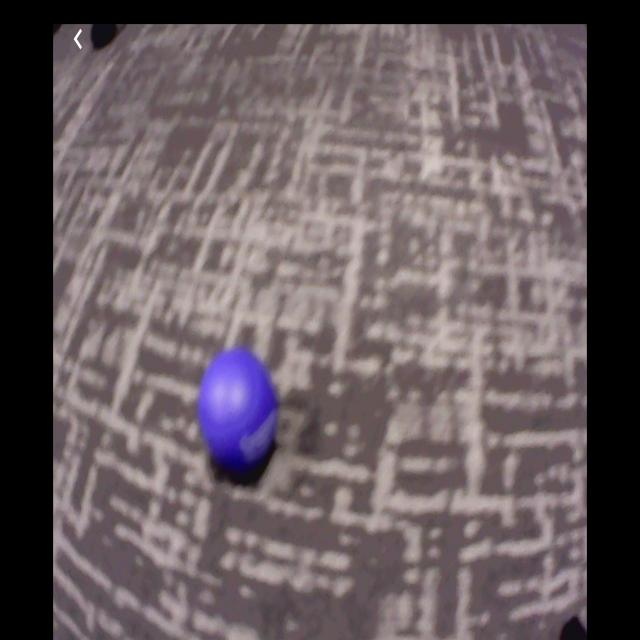ball: (199, 352, 277, 466)
